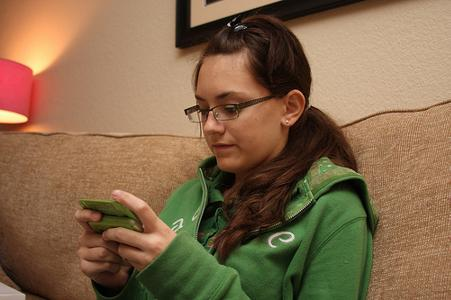person: (71, 17, 378, 299)
